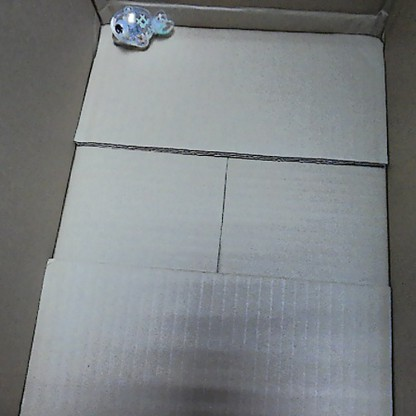whitefish: (105, 0, 175, 54)
